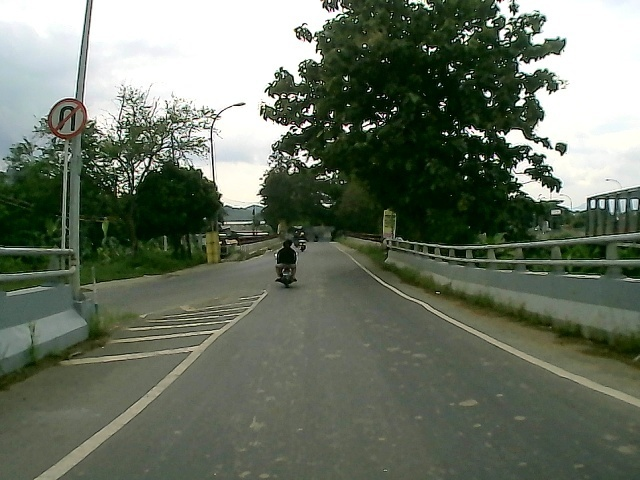Dilarang berbalik arah: (45, 98, 89, 140)
